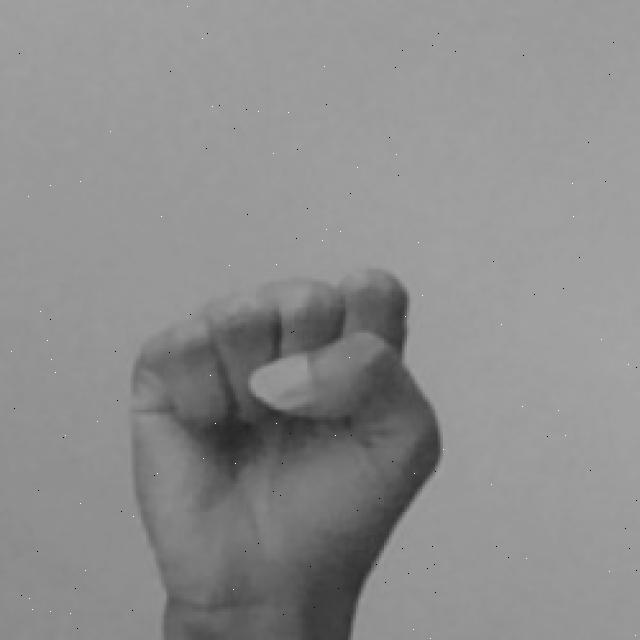S: (123, 261, 443, 640)
